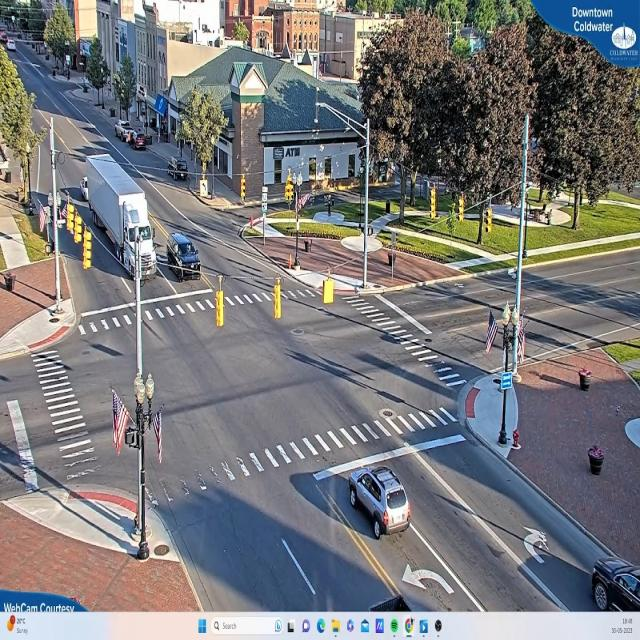car: (347, 468, 409, 538), (591, 557, 639, 612), (130, 134, 148, 150)
truck: (85, 152, 165, 292)
